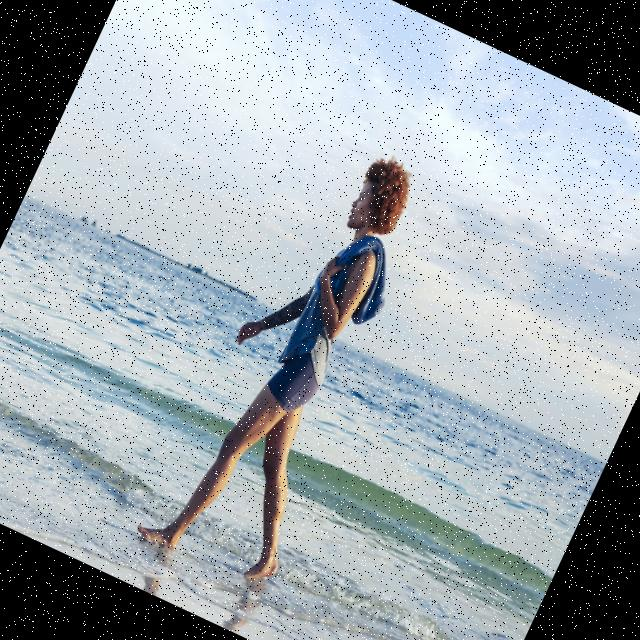Person: (132, 126, 456, 600)
